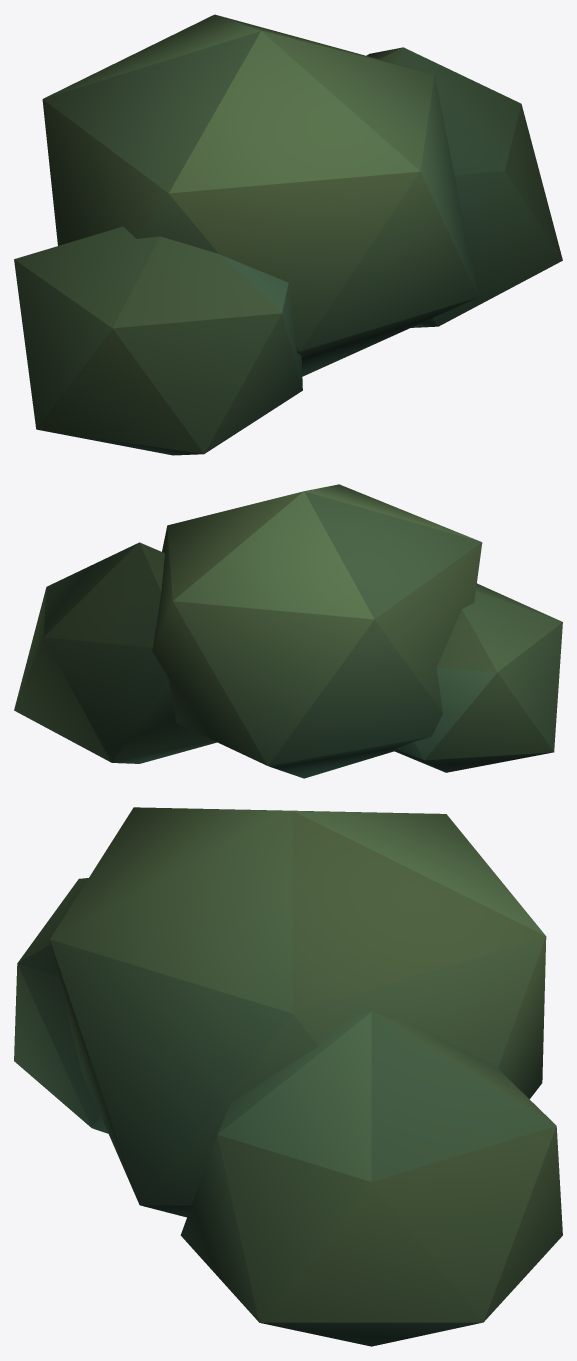
The model's file is bush_a_lod1.glb.
The picture shows the model from 3 angles, top to bottom: view 1: azimuth 30°, elevation 25°; view 2: azimuth 150°, elevation 25°; view 3: azimuth 270°, elevation 25°; orthographic projection. The views are drawn at different scales.
Visible parts, largest first — view 1: bush_a_lod1; view 2: bush_a_lod1; view 3: bush_a_lod1.
Boxes of the visible parts, x1=… form: bush_a_lod1: x1=14, y1=14, x2=562, y2=455; bush_a_lod1: x1=14, y1=484, x2=562, y2=778; bush_a_lod1: x1=14, y1=807, x2=562, y2=1346.
Bounding box in the file's own units: 1.77 × 1.09 × 1.25.
